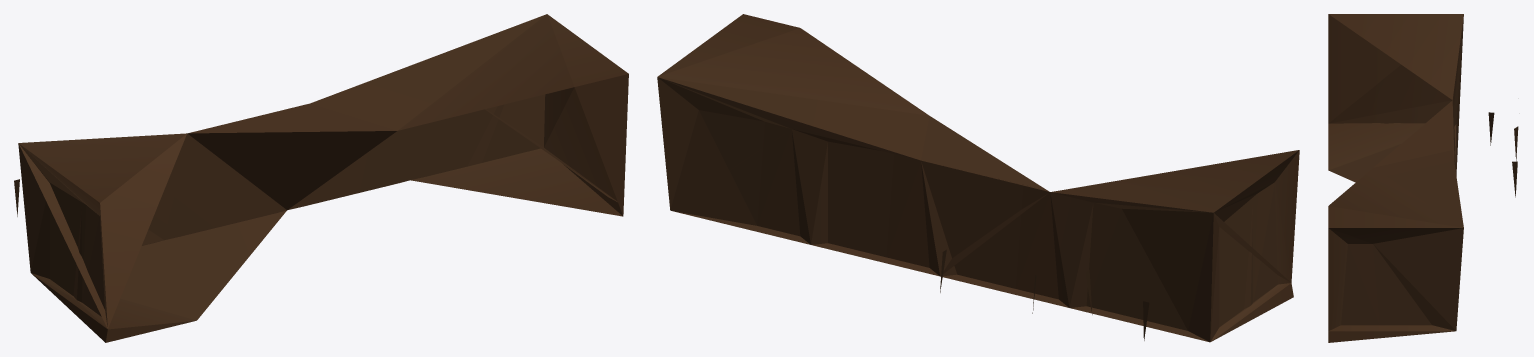
The model's file is pub-counter.lod2.glb.
The picture shows the model from 3 angles, left to right: view 1: azimuth 30°, elevation 25°; view 2: azimuth 150°, elevation 25°; view 3: azimuth 270°, elevation 25°; orthographic projection. The views are drawn at different scales.
Parts seen in each view (by area): view 1: Object_4; view 2: Object_4; view 3: Object_4.
Part boxes in pixels (bbox=[...]): Object_4: bbox=[14, 14, 628, 342]; Object_4: bbox=[657, 14, 1299, 342]; Object_4: bbox=[1328, 14, 1518, 342].
Bounding box in the file's own units: 4.28 × 1.09 × 1.62.
